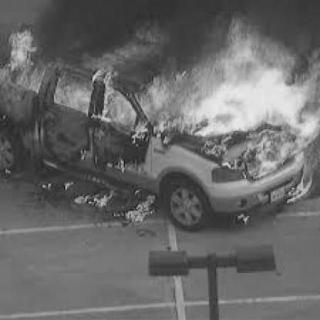Fire: (284, 178, 316, 200)
